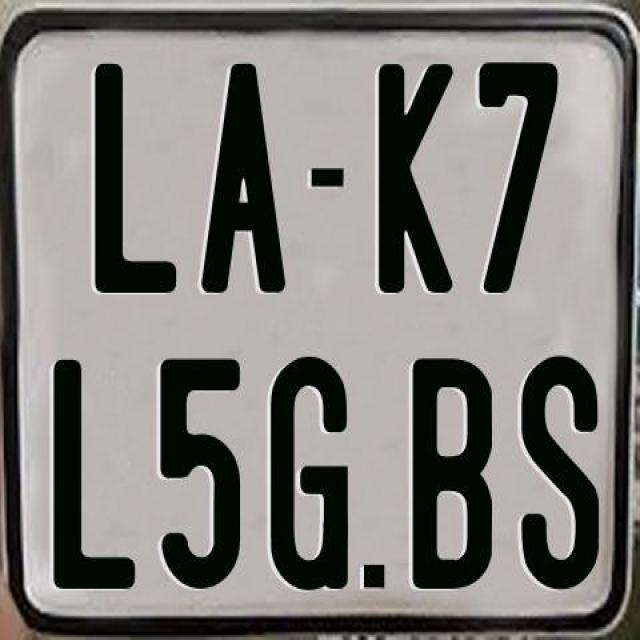5: (157, 357, 243, 597)
7: (478, 58, 562, 290)
A: (200, 62, 286, 292)
B: (413, 353, 495, 584)
G: (270, 357, 348, 596)
K: (374, 61, 454, 290)
L: (91, 63, 180, 294), (49, 358, 132, 597)
S: (518, 356, 596, 598)
